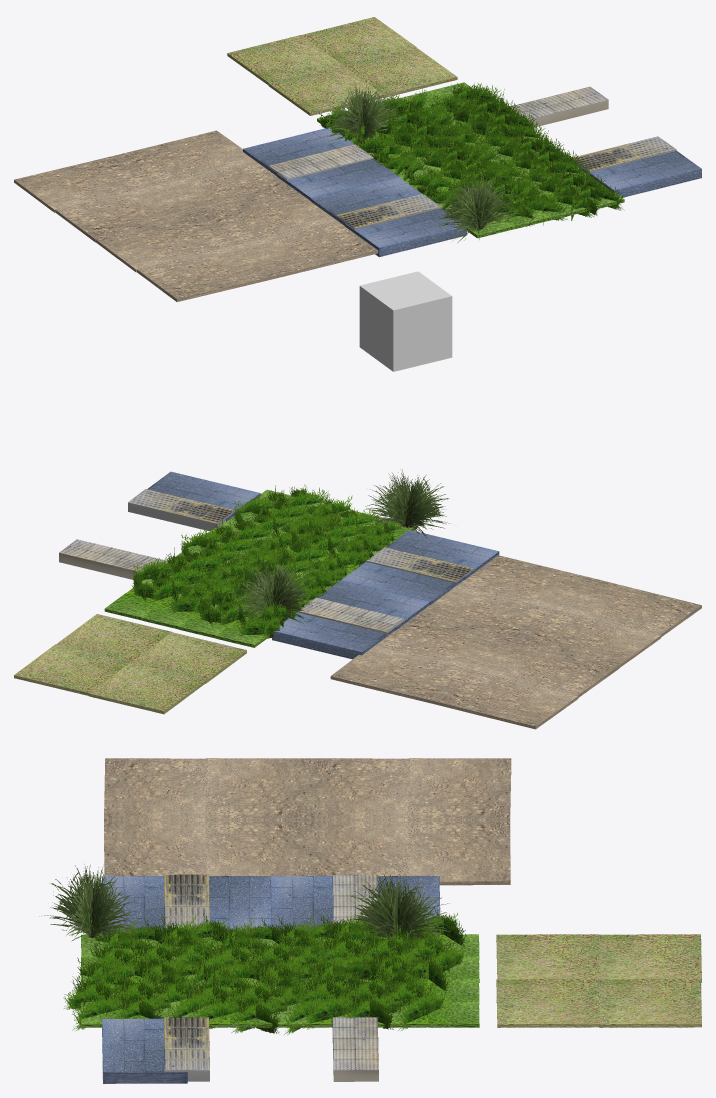
File: NewerZealandMaster Scene 1.fbx
3 views of the same model, one above another, from view 1: azimuth 30°, elevation 25°; view 2: azimuth 150°, elevation 25°; view 3: azimuth 270°, elevation 25° (orthographic). The views are drawn at different scales.
Parts seen in each view (by area): view 1: Cube.028, Cube.026, Cube, Plane.004, Plane.006, Plane.002, Plane.005, Plane.037, Cube.019, Cube.015, Cube.016, Cube.014 (+15 smaller); view 2: Cube.026, Cube.028, Plane.004, Plane.006, Plane.003, Plane.005, Cube.016, Cube.020, Plane.037, Cube.015, Plane.002, Cube.019 (+16 smaller); view 3: Cube.026, Cube.028, Plane.004, Plane.006, Plane.005, Plane.003, Plane.037, Plane.002, Cube.019, Cube.020, Cube.016, Cube.015 (+17 smaller).
Boxes of the visible parts, x1=… form: Cube.028: x1=95, y1=190, x2=378, y2=301; Cube.026: x1=14, y1=130, x2=295, y2=242; Cube: x1=359, y1=271, x2=452, y2=371; Plane.004: x1=399, y1=83, x2=538, y2=142; Plane.006: x1=485, y1=156, x2=624, y2=225; Plane.002: x1=369, y1=131, x2=506, y2=187; Plane.005: x1=444, y1=120, x2=582, y2=176; Plane.037: x1=319, y1=94, x2=461, y2=154; Cube.019: x1=342, y1=47, x2=457, y2=97; Cube.015: x1=268, y1=65, x2=383, y2=115; Cube.016: x1=227, y1=35, x2=341, y2=85; Cube.014: x1=580, y1=151, x2=701, y2=197; Cube.026: x1=330, y1=616, x2=619, y2=729; Cube.028: x1=415, y1=555, x2=701, y2=667; Plane.004: x1=131, y1=547, x2=251, y2=613; Plane.006: x1=233, y1=484, x2=352, y2=543; Plane.003: x1=286, y1=501, x2=401, y2=566; Plane.005: x1=180, y1=516, x2=299, y2=579; Cube.016: x1=88, y1=663, x2=205, y2=714; Cube.020: x1=14, y1=644, x2=130, y2=695; Plane.037: x1=197, y1=565, x2=313, y2=638; Cube.015: x1=131, y1=632, x2=246, y2=683; Plane.002: x1=239, y1=540, x2=356, y2=601; Cube.019: x1=56, y1=614, x2=171, y2=662; Cube.026: x1=307, y1=758, x2=511, y2=885; Cube.028: x1=104, y1=758, x2=308, y2=876; Plane.004: x1=295, y1=951, x2=448, y2=1030; Plane.006: x1=63, y1=951, x2=217, y2=1030; Plane.005: x1=181, y1=956, x2=333, y2=1034; Plane.003: x1=83, y1=913, x2=235, y2=984; Plane.037: x1=314, y1=908, x2=466, y2=980; Plane.002: x1=203, y1=915, x2=351, y2=984; Cube.019: x1=496, y1=979, x2=599, y2=1027; Cube.020: x1=598, y1=979, x2=701, y2=1027; Cube.016: x1=598, y1=934, x2=701, y2=982; Cube.015: x1=496, y1=934, x2=599, y2=979.
Bounding box in the file's own units: 1785 × 743 × 1631.
